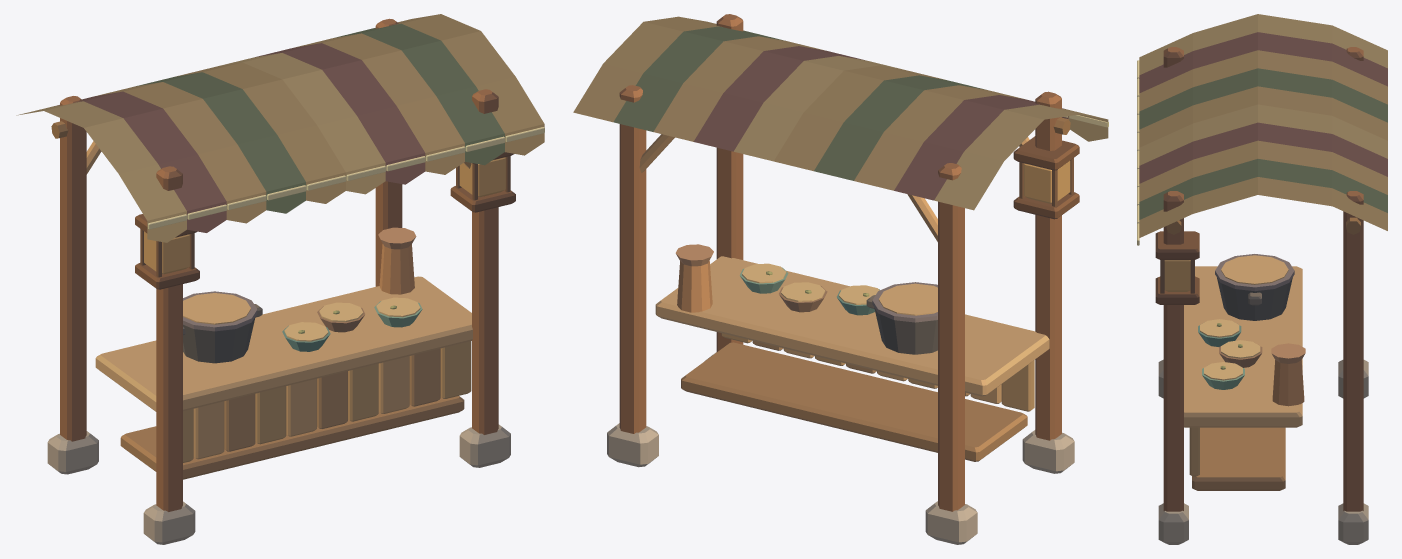
File: evening_market.glb
3 renders of one model, left to right at view 1: azimuth 30°, elevation 25°; view 2: azimuth 150°, elevation 25°; view 3: azimuth 270°, elevation 25°, orthographic. The views are drawn at different scales.
Parts seen in each view (by area): view 1: Abendmarkt · Maras Suppentisch; view 2: Abendmarkt · Maras Suppentisch; view 3: Abendmarkt · Maras Suppentisch.
Part boxes in pixels (x1,y1,x2,y2): Abendmarkt · Maras Suppentisch: (16,14,544,544); Abendmarkt · Maras Suppentisch: (573,14,1108,544); Abendmarkt · Maras Suppentisch: (1137,14,1387,544).
Bounding box in the file's own units: 2.24 × 2.09 × 1.31.
